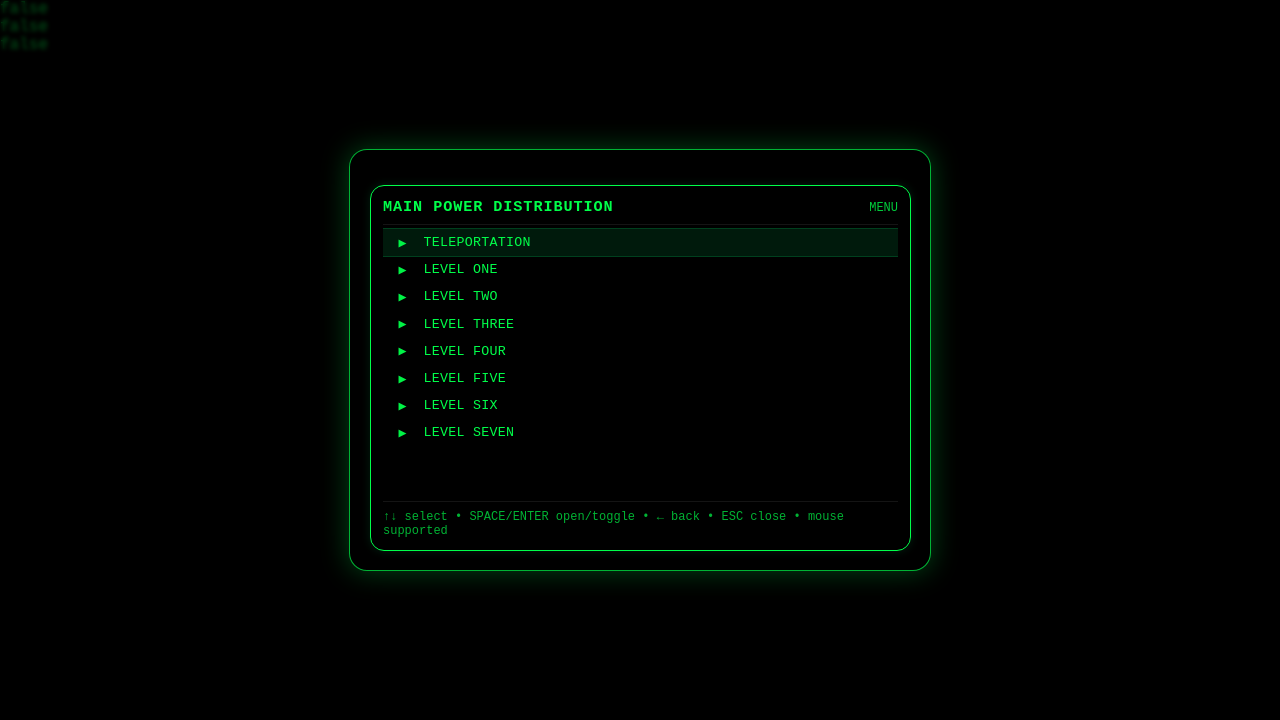
Scenario: Power station terminal › shows elevator power and toggles it on and off
Click the option "▶ LEVEL ONE".
click(461, 270)  # box [383,256,898,283]
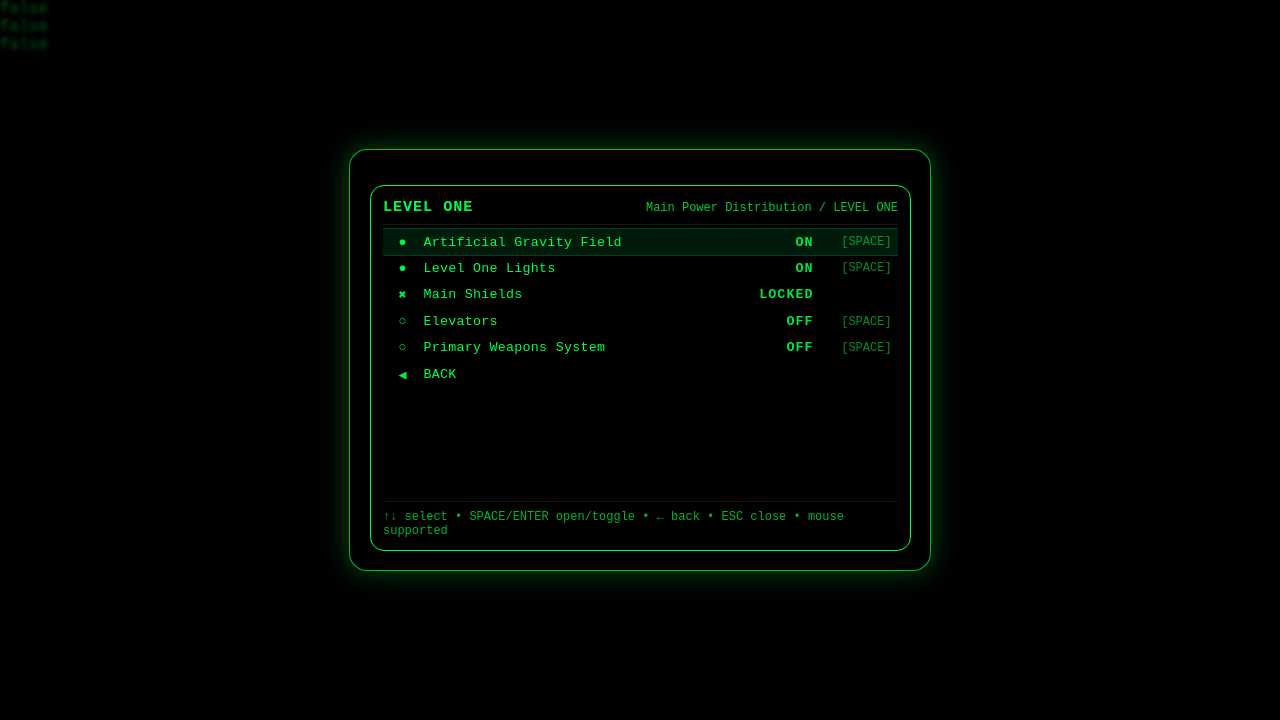
Expected: the text with test id "elevator-power" reads "false", [0,36,48,54]
Result: the option "○ Elevators OFF [SPACE]" is shown
Click the option "○ Elevators OFF [SPACE]".
click(461, 322)  # box [383,309,898,335]
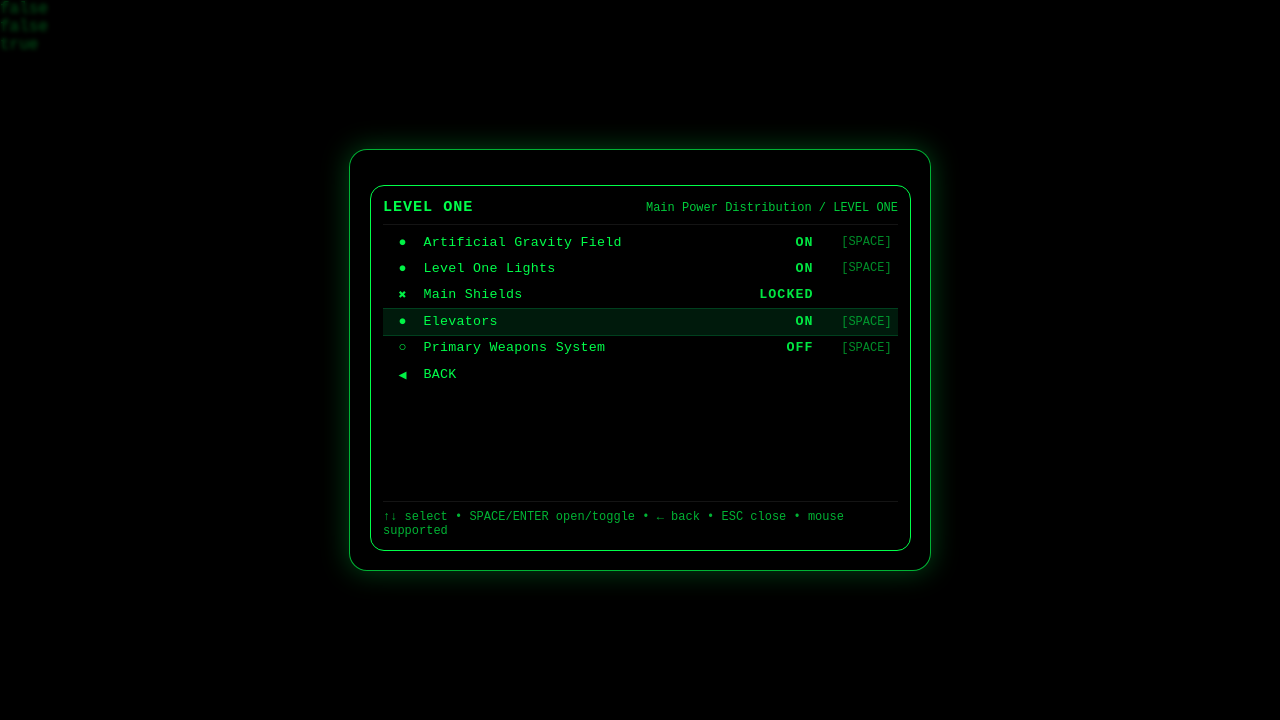
Expected: the text with test id "elevator-power" reads "true", [0,36,38,54]
Result: the option "● Elevators ON [SPACE]" is shown
Click the option "● Elevators ON [SPACE]".
click(461, 322)  # box [383,309,898,335]
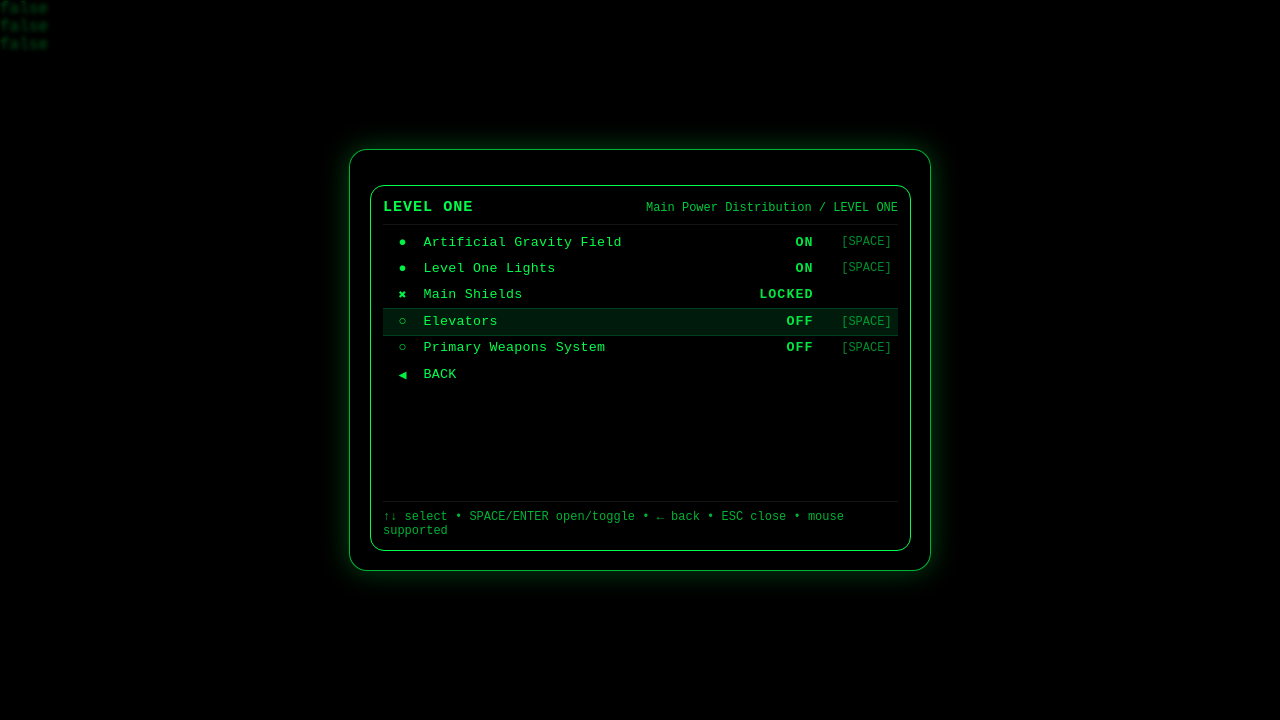
Result: the text with test id "elevator-power" reads "false" at [0,36,48,54]
